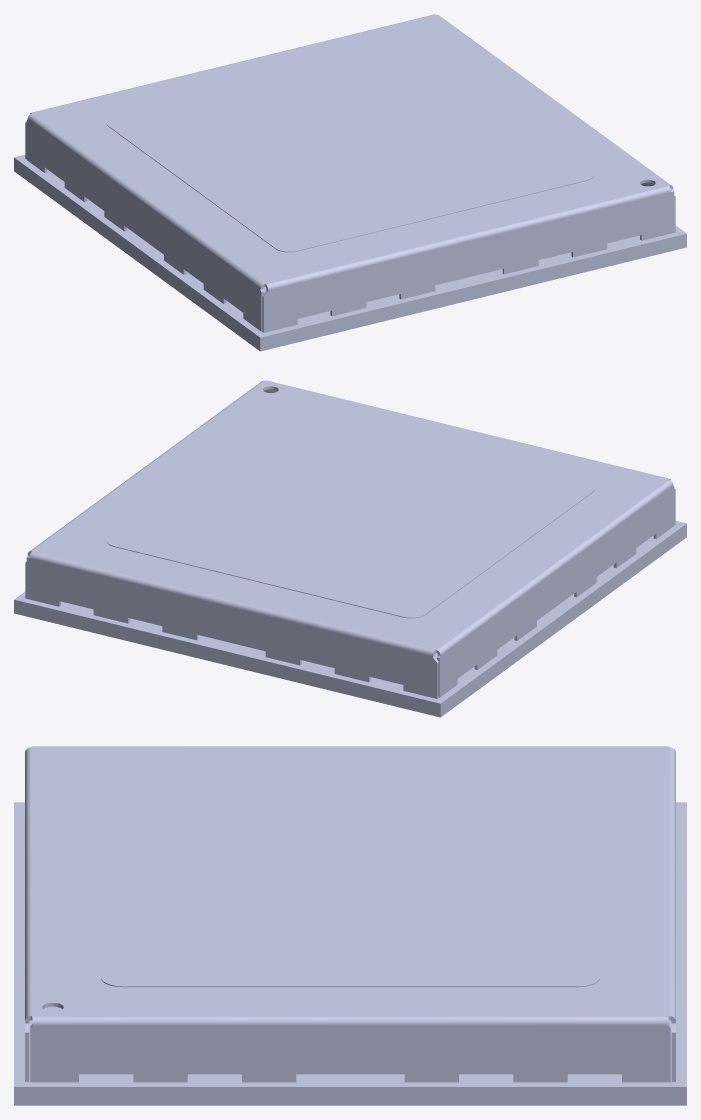
Rendered from sfe-septentrio_mosaic-x5-rev5.glb.
3 renders of one model, top to bottom at view 1: azimuth 30°, elevation 25°; view 2: azimuth 150°, elevation 25°; view 3: azimuth 270°, elevation 25°, orthographic. The views are drawn at different scales.
Parts seen in each view (by area): view 1: 0.5833333333333334_0.6666666666666666_0.8333333333333334_0; view 2: 0.5833333333333334_0.6666666666666666_0.8333333333333334_0; view 3: 0.5833333333333334_0.6666666666666666_0.8333333333333334_0.
Part boxes in pixels (left/top/right/bottom): 0.5833333333333334_0.6666666666666666_0.8333333333333334_0: left=14, top=14, right=686, bottom=351; 0.5833333333333334_0.6666666666666666_0.8333333333333334_0: left=14, top=380, right=686, bottom=717; 0.5833333333333334_0.6666666666666666_0.8333333333333334_0: left=14, top=746, right=686, bottom=1105.
Bounding box in the file's own units: 3.1 × 0.4208 × 3.1.
